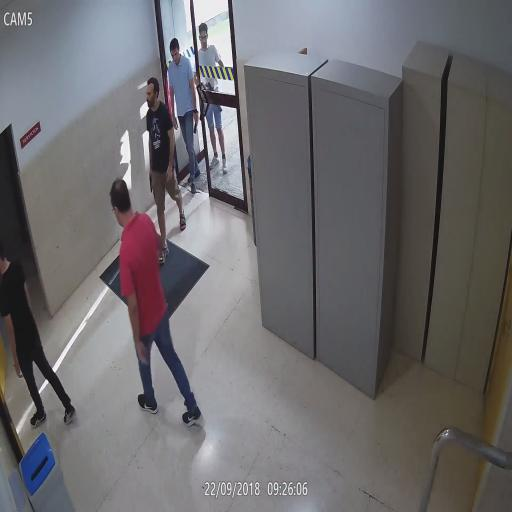Handgun: (147, 171, 153, 194)
